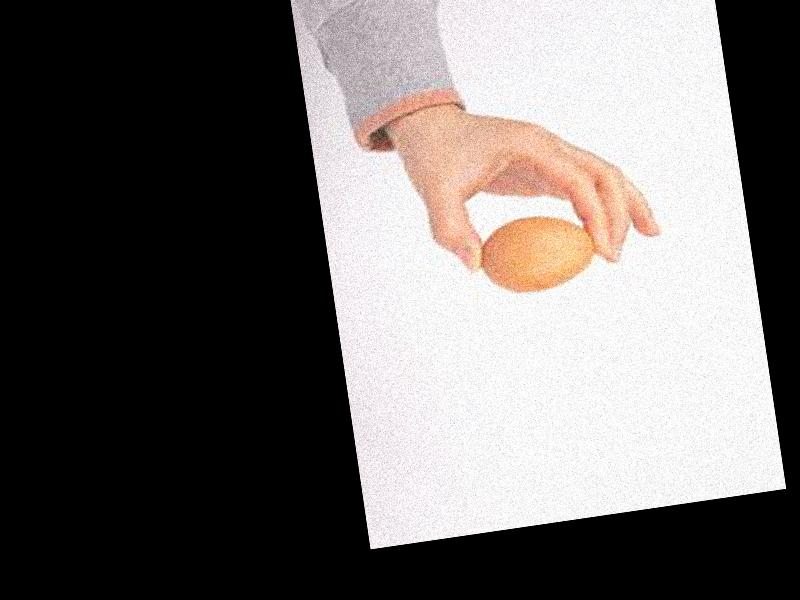Eggs: (479, 210, 601, 298)
